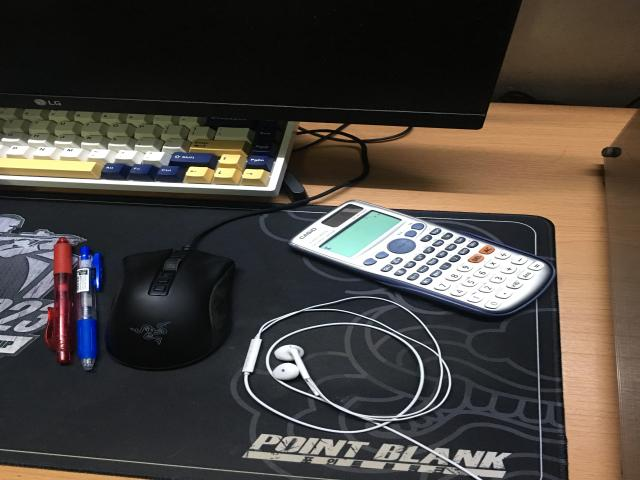Mouse: (107, 199, 310, 370)
Pen: (45, 237, 73, 363), (75, 247, 100, 370)
wire: (242, 296, 480, 480)
